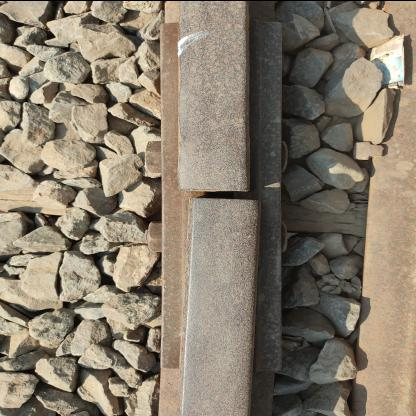Defective 2: (140, 148, 304, 258)
